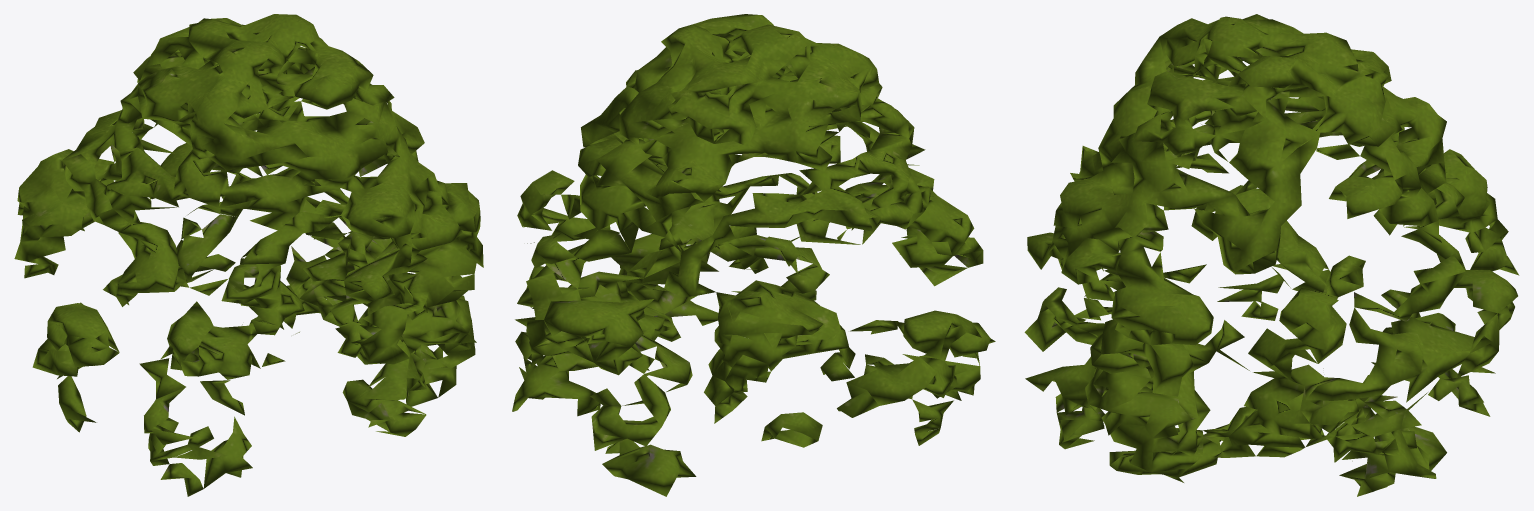
The model's file is linden.glb.
3 renders of one model, left to right at view 1: azimuth 30°, elevation 25°; view 2: azimuth 150°, elevation 25°; view 3: azimuth 270°, elevation 25°, orthographic. The views are drawn at different scales.
Parts seen in each view (by area): view 1: geometry_0; view 2: geometry_0; view 3: geometry_0.
Part boxes in pixels (x1,y1,x2,y2): geometry_0: (14,14,483,496); geometry_0: (512,14,995,496); geometry_0: (1024,14,1519,496).
Size of the model in its own units: 0.8116 by 0.7558 by 0.8134.
1 material, 1 textured.
